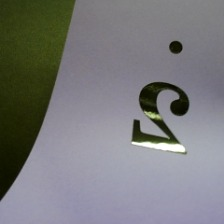violet2: (130, 40, 200, 156)
